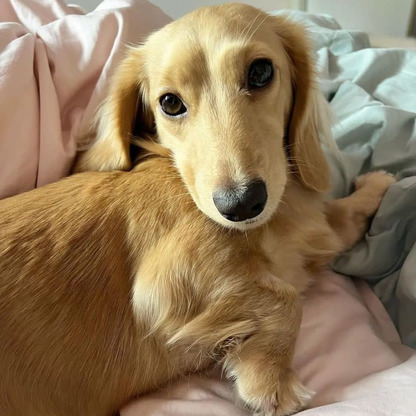dachshund: (57, 10, 366, 375)
